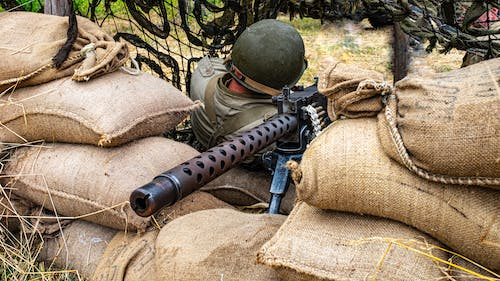gun: (128, 76, 333, 218)
